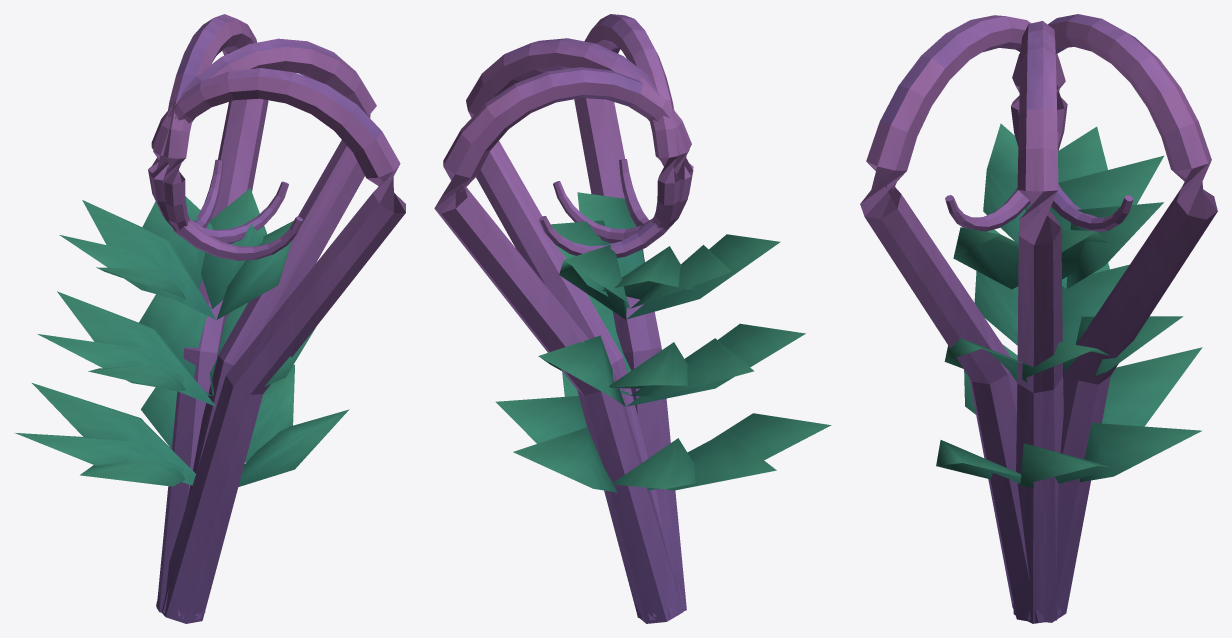
The model's file is forest_spiral_fern.glb.
The picture shows the model from 3 angles, left to right: view 1: azimuth 30°, elevation 25°; view 2: azimuth 150°, elevation 25°; view 3: azimuth 270°, elevation 25°; orthographic projection. The views are drawn at different scales.
Visible parts, largest first — view 1: Dream fern curled frond, Dream fern curled frond.001, Dream fern curled frond.002, Dream fern teal leaflet, Dream fern teal leaflet.002, Dream fern teal leaflet.004, Dream fern teal leaflet.001, Dream fern teal leaflet.011, Dream fern teal leaflet.015, Dream fern teal leaflet.005, Dream fern teal leaflet.006, Dream fern teal leaflet.007 (+8 smaller); view 2: Dream fern curled frond.002, Dream fern curled frond.001, Dream fern curled frond, Dream fern teal leaflet.013, Dream fern teal leaflet.006, Dream fern teal leaflet.007, Dream fern teal leaflet.016, Dream fern teal leaflet.012, Dream fern teal leaflet.014, Dream fern teal leaflet.017, Dream fern teal leaflet.008, Dream fern teal leaflet.015 (+7 smaller); view 3: Dream fern curled frond, Dream fern curled frond.002, Dream fern curled frond.001, Dream fern teal leaflet, Dream fern teal leaflet.013, Dream fern teal leaflet.004, Dream fern teal leaflet.005, Dream fern teal leaflet.017, Dream fern teal leaflet.016, Dream fern teal leaflet.002, Dream fern teal leaflet.007, Dream fern teal leaflet.014 (+6 smaller).
Boxes of the visible parts, <box> form: Dream fern curled frond: <box>148,68,405,623</box>; Dream fern curled frond.001: <box>150,38,376,619</box>; Dream fern curled frond.002: <box>156,14,268,615</box>; Dream fern teal leaflet: <box>32,383,195,485</box>; Dream fern teal leaflet.002: <box>57,291,215,406</box>; Dream fern teal leaflet.004: <box>82,200,216,319</box>; Dream fern teal leaflet.001: <box>238,409,349,486</box>; Dream fern teal leaflet.011: <box>201,188,267,308</box>; Dream fern teal leaflet.015: <box>139,294,207,377</box>; Dream fern teal leaflet.005: <box>216,220,293,319</box>; Dream fern teal leaflet.006: <box>14,432,183,475</box>; Dream fern teal leaflet.007: <box>245,364,294,462</box>; Dream fern curled frond.002: <box>434,67,693,623</box>; Dream fern curled frond.001: <box>466,38,691,620</box>; Dream fern curled frond: <box>574,14,686,616</box>; Dream fern teal leaflet.013: <box>513,427,617,492</box>; Dream fern teal leaflet.006: <box>666,431,776,490</box>; Dream fern teal leaflet.007: <box>495,396,586,443</box>; Dream fern teal leaflet.016: <box>626,234,780,319</box>; Dream fern teal leaflet.012: <box>647,413,831,490</box>; Dream fern teal leaflet.014: <box>626,323,805,406</box>; Dream fern teal leaflet.017: <box>559,244,627,319</box>; Dream fern teal leaflet.008: <box>630,338,754,396</box>; Dream fern teal leaflet.015: <box>538,335,625,406</box>; Dream fern curled frond: <box>860,15,1067,622</box>; Dream fern curled frond.002: <box>1011,14,1217,622</box>; Dream fern curled frond.001: <box>1013,21,1063,623</box>; Dream fern teal leaflet: <box>1102,347,1202,426</box>; Dream fern teal leaflet.013: <box>1079,423,1201,482</box>; Dream fern teal leaflet.004: <box>1013,155,1163,288</box>; Dream fern teal leaflet.005: <box>953,227,1018,289</box>; Dream fern teal leaflet.017: <box>1066,202,1163,289</box>; Dream fern teal leaflet.016: <box>983,123,1067,288</box>; Dream fern teal leaflet.002: <box>1062,264,1129,344</box>; Dream fern teal leaflet.007: <box>1020,443,1113,487</box>; Dream fern teal leaflet.014: <box>974,229,1018,345</box>.
Bounding box in the file's own units: 0.5329 × 0.8287 × 0.4322.
Materials: 2 (2 with a texture image).
